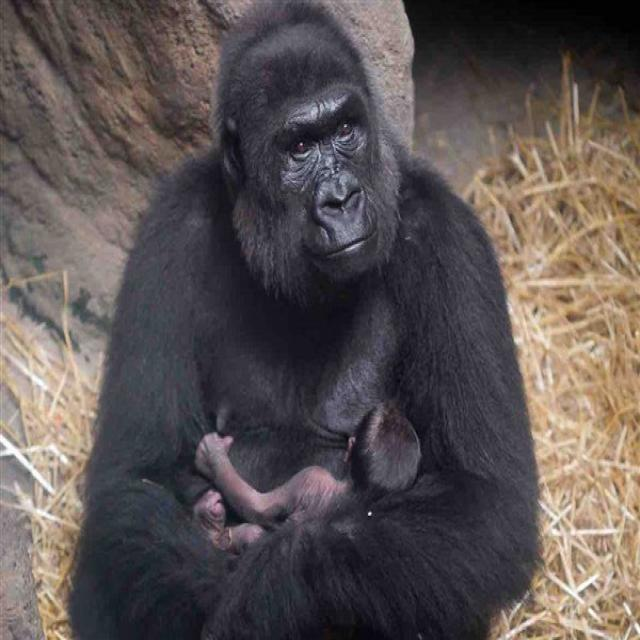Gorilla: (61, 0, 552, 640), (184, 379, 446, 556)
